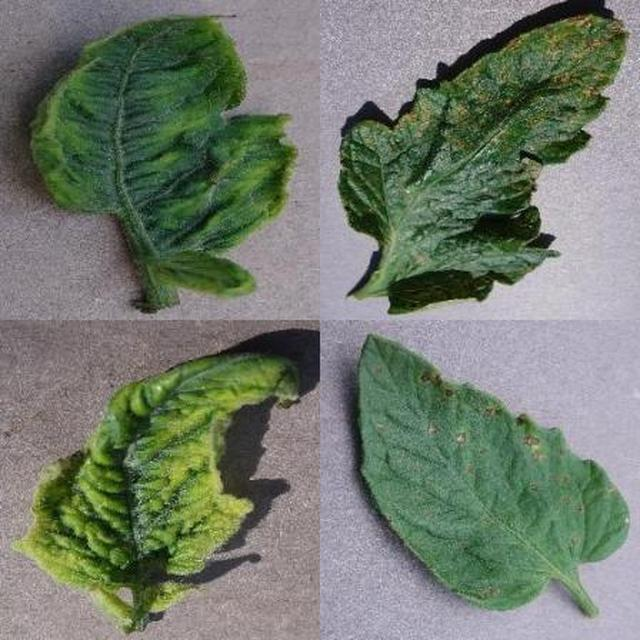Yellow Leaf Curl Virus: (226, 222, 640, 640)
